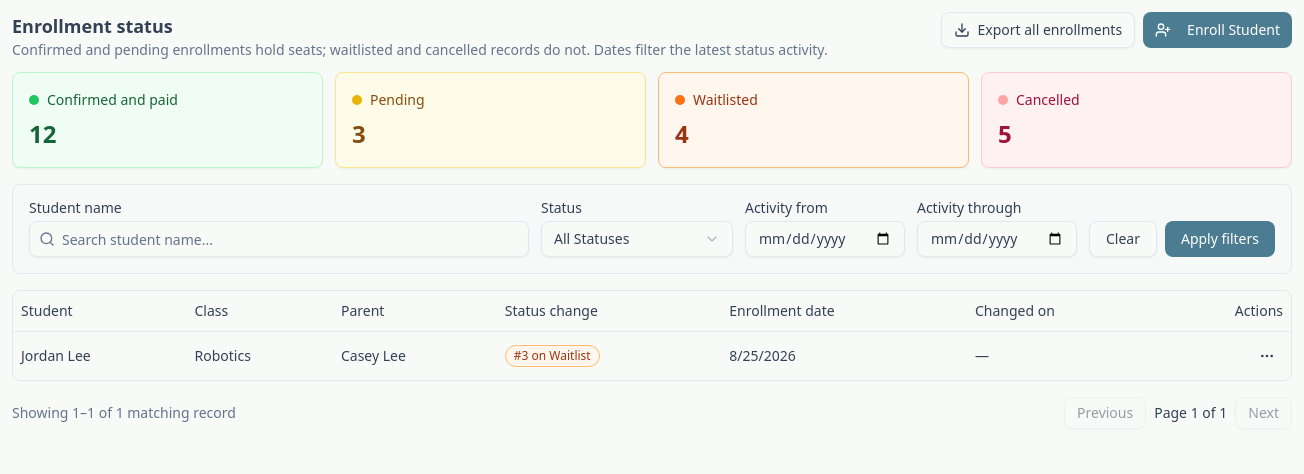
it: EnrollmentManagementTable › shows a local date error and does not navigate for a reversed range
This screenshot has width=1304, height=474.
Type "2026-08-31" into the date field labelled "Activity from" at [825, 239], box 745,221 -> 905,257
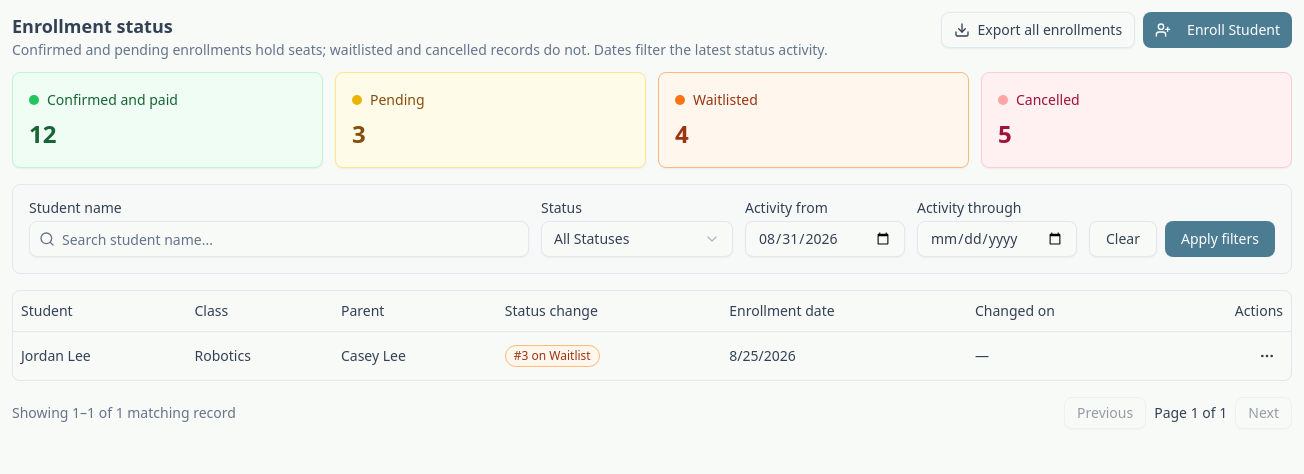
Type "2026-08-01" into the date field labelled "Activity through" at [997, 239], box 917,221 -> 1077,257
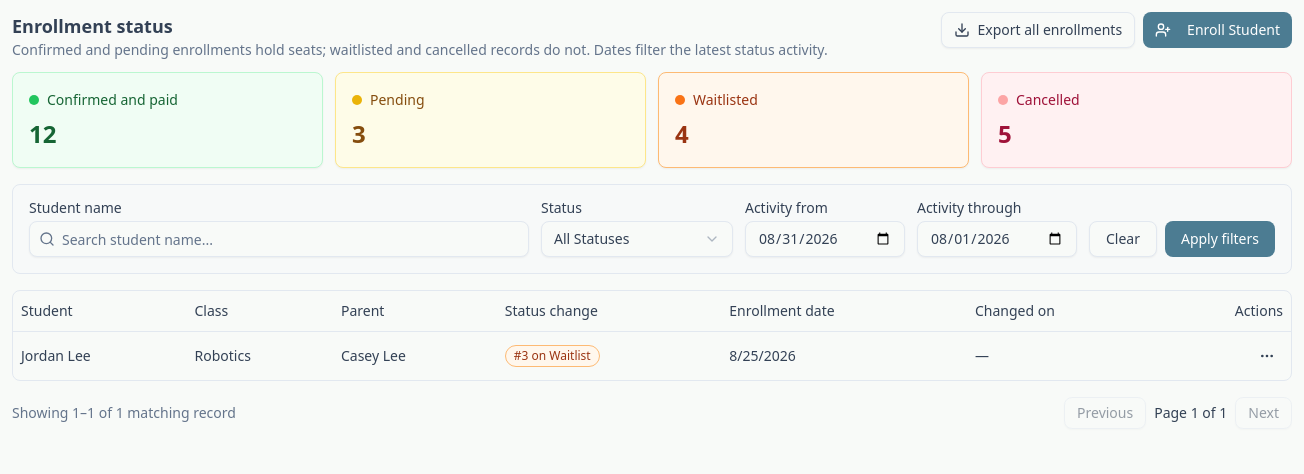
Click the button "Apply filters" at [1220, 239], box 1165,221 -> 1275,257
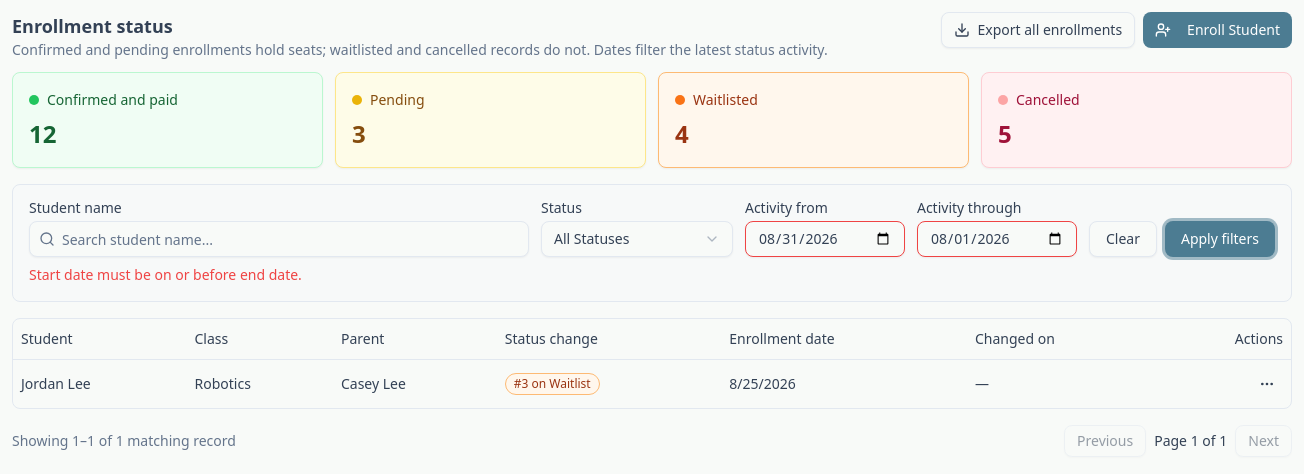
Now the message reads "Start date must be on or before end date.", box 29,265 -> 302,284
